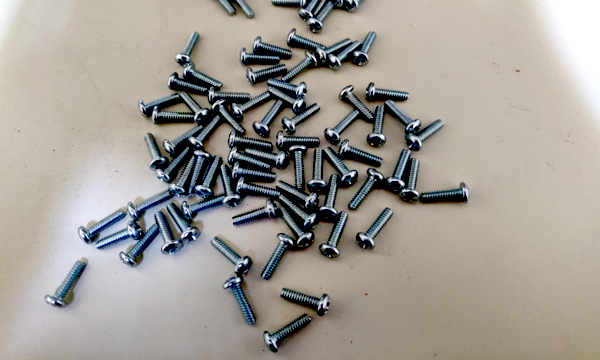shortscrew: (45, 260, 86, 309), (264, 313, 312, 353), (119, 225, 159, 269), (223, 275, 257, 326), (77, 211, 125, 246), (261, 233, 296, 281), (211, 237, 253, 276), (357, 208, 394, 251), (278, 207, 315, 249), (349, 168, 385, 211), (319, 212, 349, 260), (281, 288, 331, 316), (167, 203, 201, 244), (279, 195, 318, 230), (96, 221, 143, 250), (324, 146, 358, 186), (405, 119, 446, 152), (155, 147, 192, 183), (324, 109, 362, 144), (231, 199, 278, 227), (339, 86, 375, 122), (276, 180, 319, 210), (180, 194, 226, 222), (155, 212, 183, 257), (386, 100, 422, 135), (168, 155, 197, 197), (385, 148, 412, 193), (195, 155, 222, 200), (187, 150, 213, 196), (127, 193, 171, 220), (188, 114, 221, 150), (212, 99, 245, 135), (283, 103, 321, 134), (339, 140, 384, 166), (139, 92, 182, 119), (282, 52, 318, 84), (163, 126, 204, 154), (183, 61, 224, 89), (231, 92, 271, 120), (229, 146, 272, 172), (314, 38, 353, 66), (267, 86, 306, 114), (325, 41, 361, 71), (237, 176, 282, 200), (253, 100, 283, 136), (422, 183, 470, 205), (245, 147, 289, 171), (219, 164, 242, 209), (318, 174, 339, 221), (252, 36, 293, 60), (144, 132, 169, 171), (399, 159, 421, 203), (306, 148, 328, 192), (352, 30, 377, 66), (232, 161, 277, 181), (246, 65, 288, 86), (366, 105, 387, 147), (229, 130, 273, 150), (289, 144, 308, 189), (167, 73, 209, 93), (152, 106, 196, 125), (308, 1, 334, 33), (176, 32, 199, 68), (366, 83, 411, 101), (276, 131, 320, 149), (240, 48, 280, 67), (268, 78, 308, 97), (209, 86, 250, 102), (225, 0, 255, 19), (207, 0, 236, 16), (345, 0, 374, 13), (330, 0, 364, 9), (272, 0, 310, 8)
